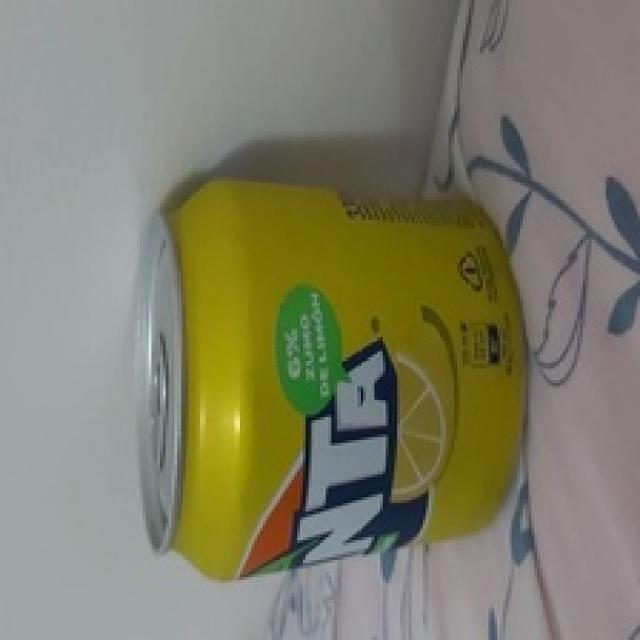recyclable: (131, 178, 534, 583)
